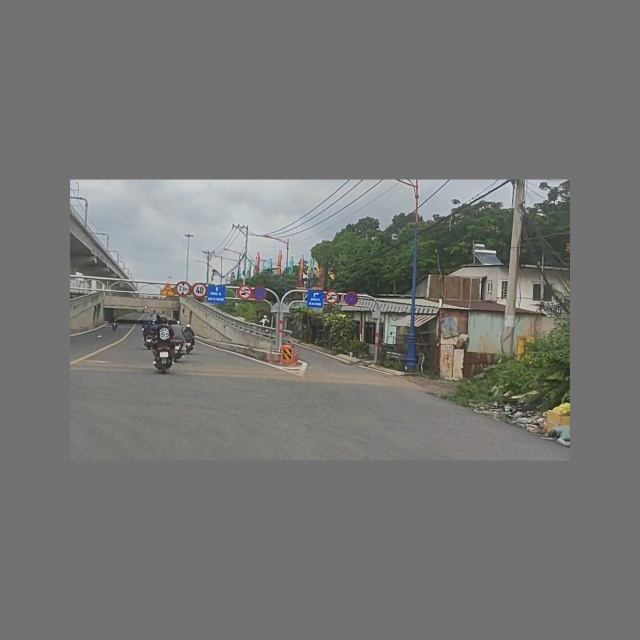P.107: (233, 281, 257, 304), (321, 287, 342, 308)
P.117*: (172, 277, 195, 301)
P.127*40: (189, 279, 211, 302)
P.130: (340, 288, 363, 310), (249, 283, 271, 305)
W.239b*: (156, 279, 178, 301)
